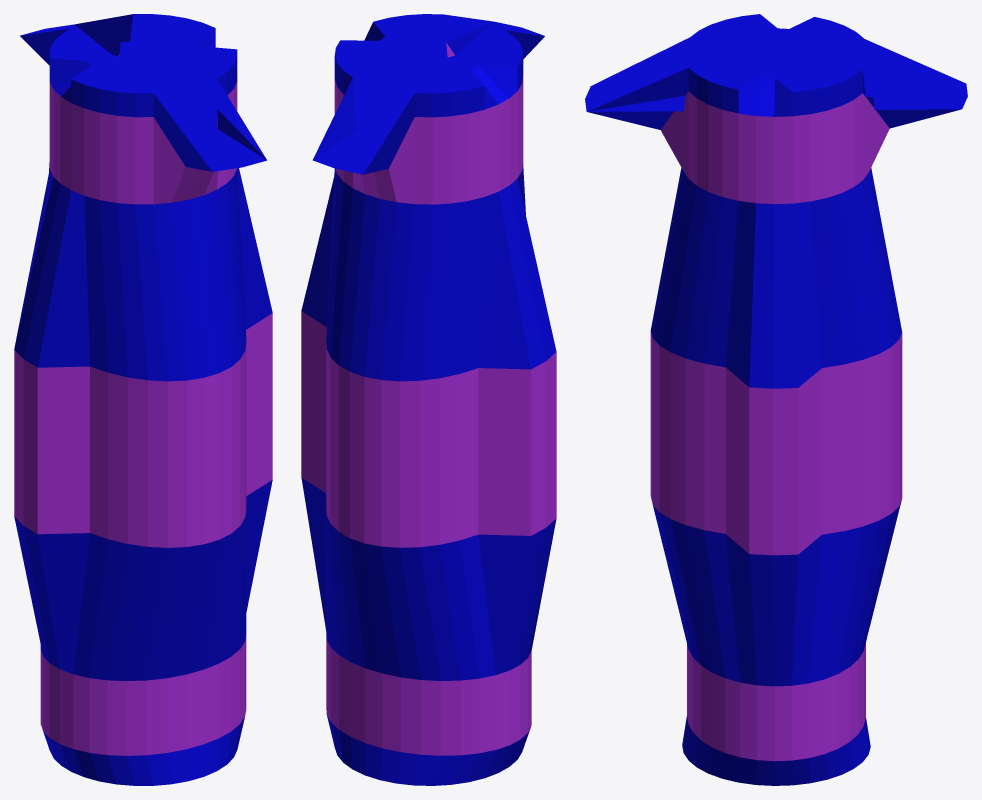
The model's file is Traps3.fbx.
3 renders of one model, left to right at view 1: azimuth 30°, elevation 25°; view 2: azimuth 150°, elevation 25°; view 3: azimuth 270°, elevation 25°, orthographic.
Parts seen in each view (by area): view 1: Statik; view 2: Statik; view 3: Statik.
Part boxes in pixels (x1,y1,x2,y2): Statik: [14, 14, 272, 785]; Statik: [301, 14, 556, 785]; Statik: [585, 14, 967, 785].
Size of the model in its own units: 146 by 409 by 205.
